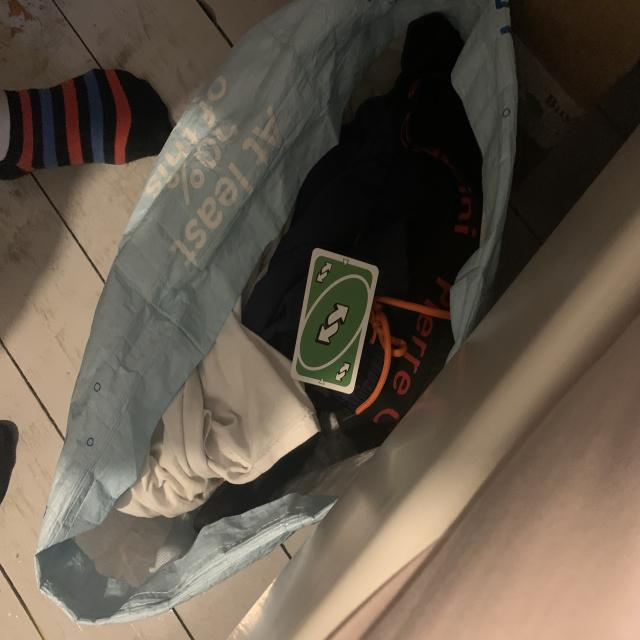lgreenrevers-20: (314, 260, 334, 287)
